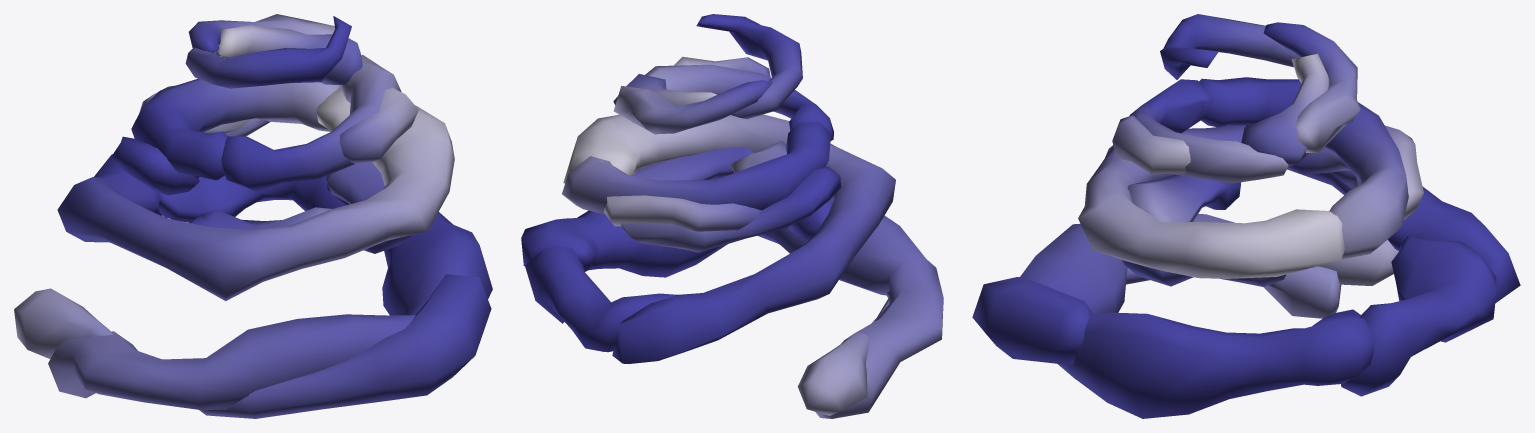
File: upperClouds_01.gltf
3 views of the same model, side by side, from view 1: azimuth 30°, elevation 25°; view 2: azimuth 150°, elevation 25°; view 3: azimuth 270°, elevation 25° (orthographic). The views are drawn at different scales.
Visible parts, largest first — view 1: upperClouds; view 2: upperClouds; view 3: upperClouds.
Part boxes in pixels (x1=…): upperClouds: x1=14, y1=14, x2=492, y2=418; upperClouds: x1=521, y1=14, x2=943, y2=418; upperClouds: x1=972, y1=14, x2=1520, y2=418.
Bounding box in the file's own units: 75.14 × 65.06 × 87.63.
1 material, 1 textured.
